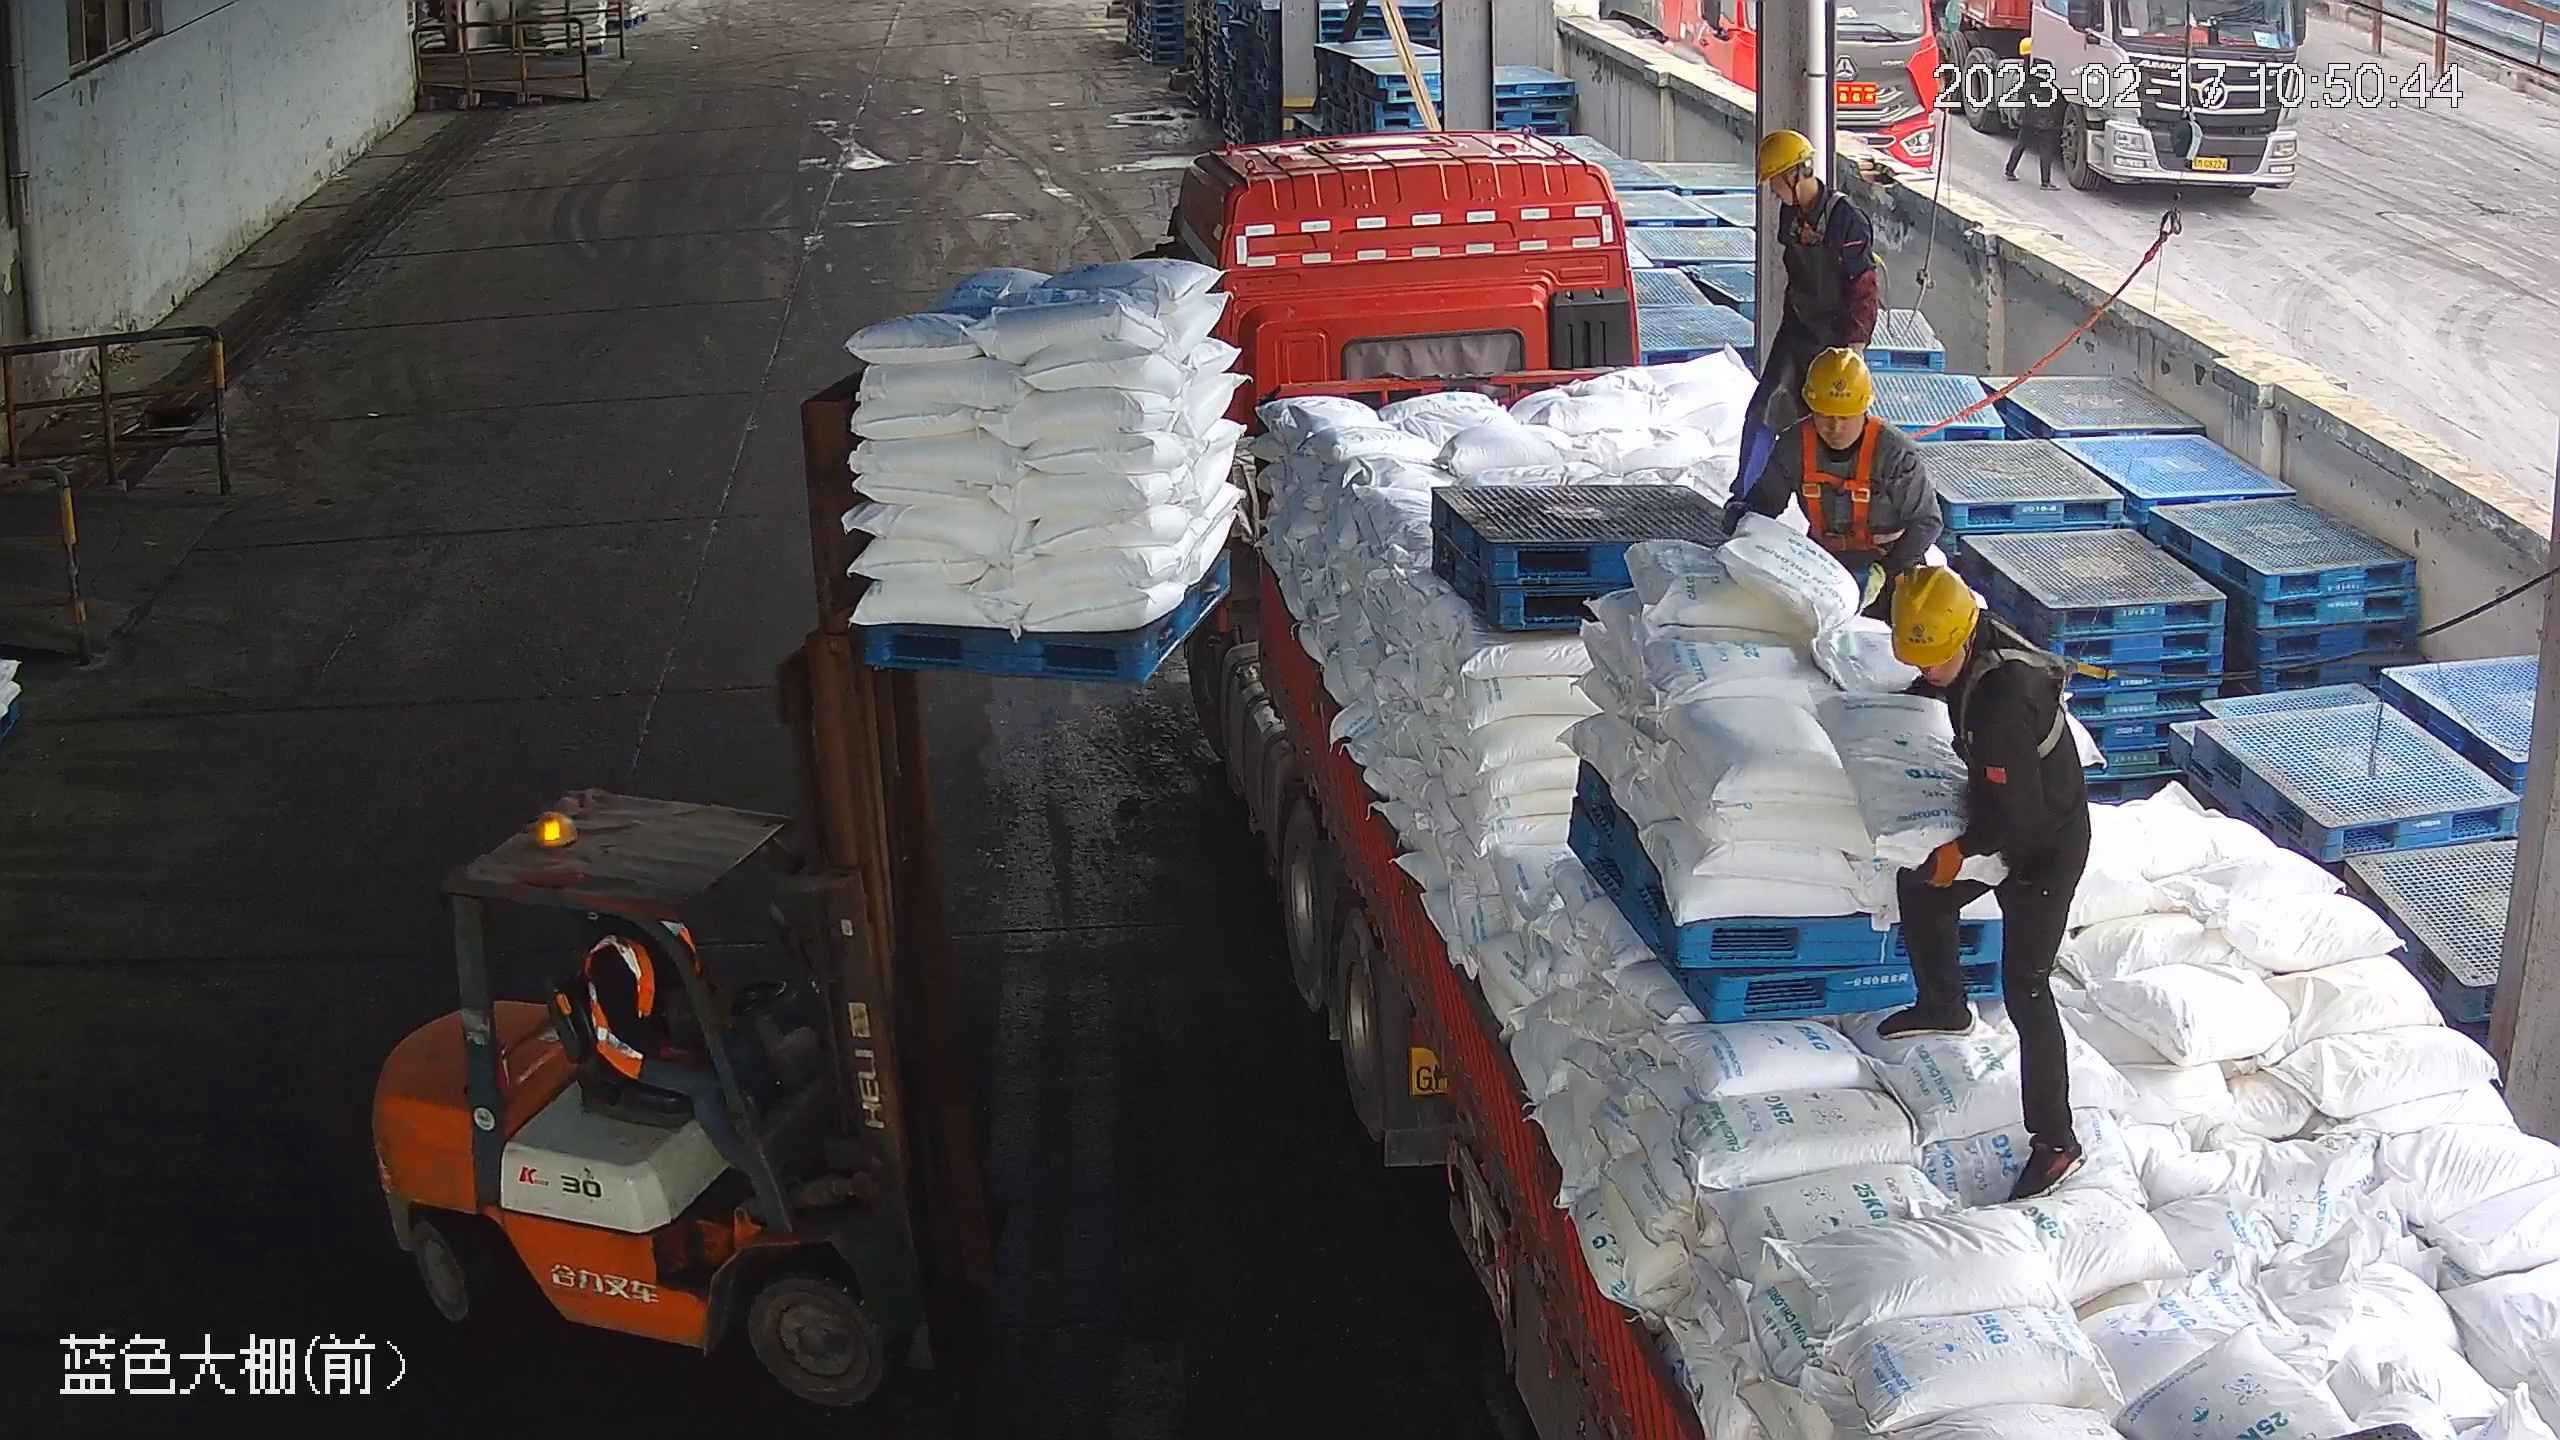belt: (1954, 629, 2095, 764), (1790, 412, 1894, 551), (1779, 185, 1844, 248)
head: (1888, 566, 2062, 733), (1763, 342, 1922, 478), (1753, 129, 1871, 236)
helmet: (1889, 561, 1986, 667), (1802, 343, 1880, 420), (1753, 128, 1818, 181)
people: (1883, 565, 2097, 1206), (576, 915, 853, 1209), (1727, 125, 1881, 504)
truck: (1146, 113, 2554, 1438)
